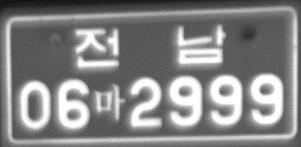0: (19, 79, 52, 130)
2: (130, 76, 163, 127)
6: (57, 78, 91, 129)
9: (250, 71, 284, 124), (168, 75, 203, 126), (209, 74, 242, 126)
마: (94, 82, 125, 122)
전남_D: (74, 23, 226, 69)
